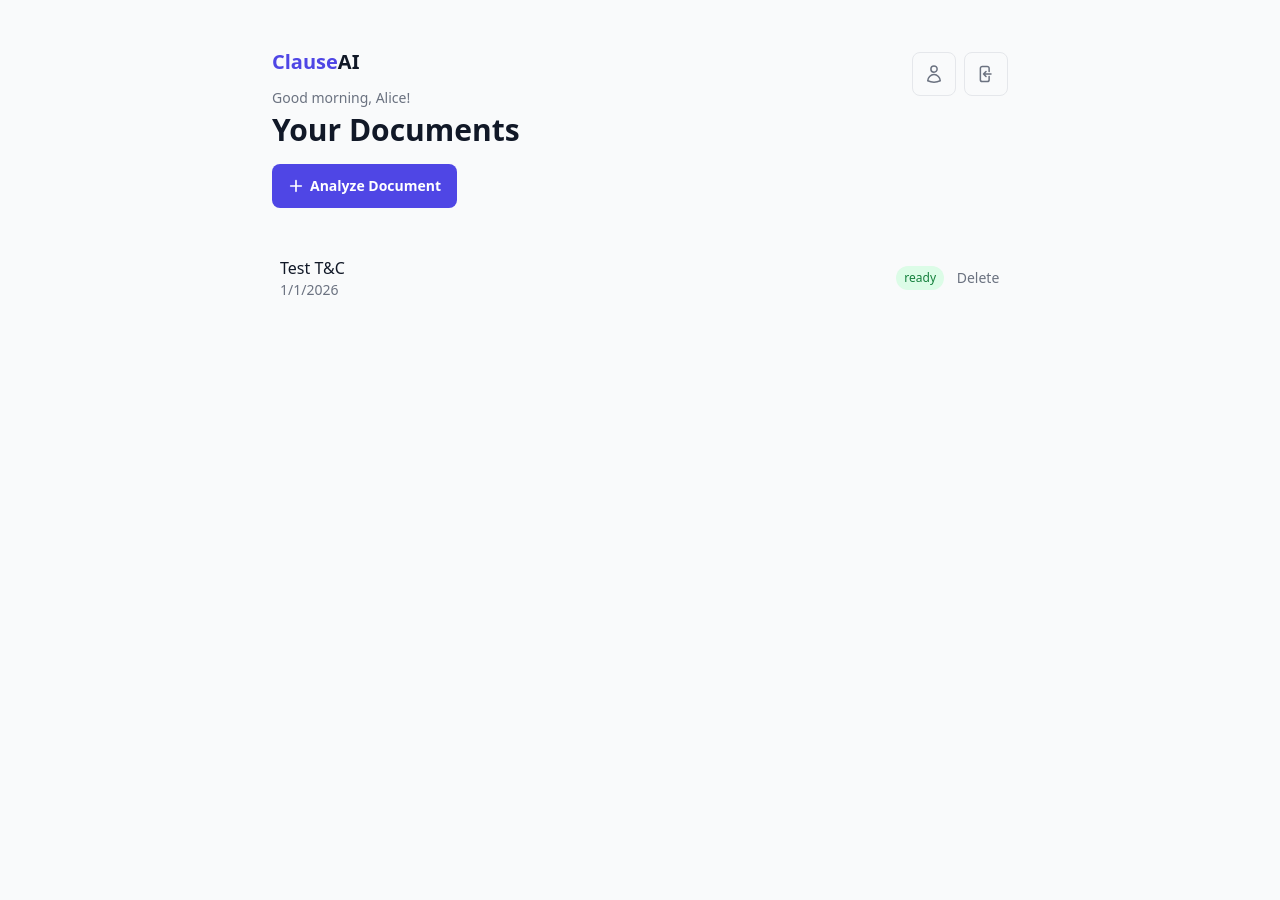
Test: removes document from list after delete confirmation
The image size is (1280, 900).
Check: the text "Test T&C" is shown, box [280, 257, 345, 279]
Note: Click delete on the document row — opens confirmation dialog
Click the button named "delete \"test t&c\"". click: click(978, 278)
box: [956, 256, 1000, 300]
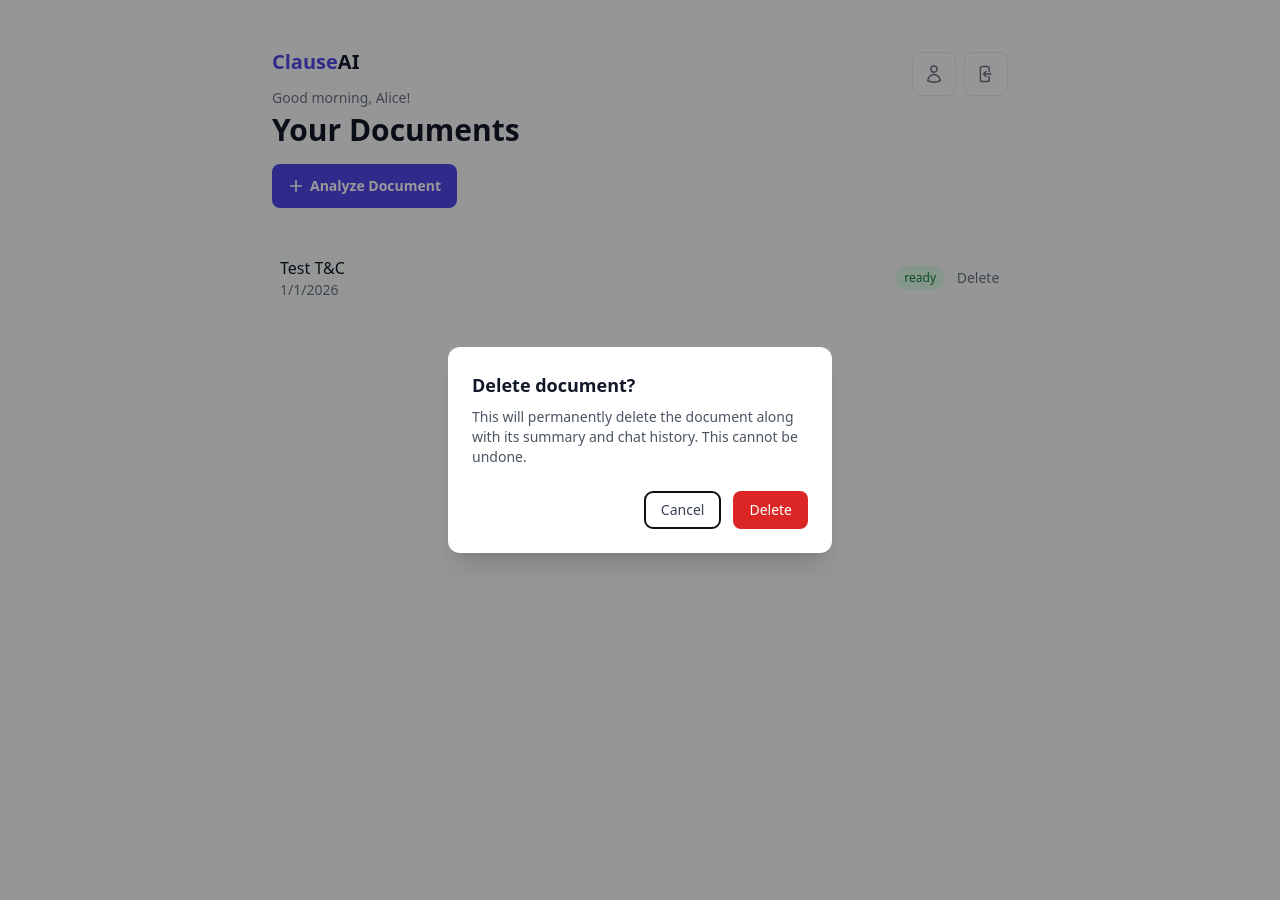
Note: Confirm in the dialog
Click the button "Delete". click: click(771, 510)
box: [733, 491, 808, 529]
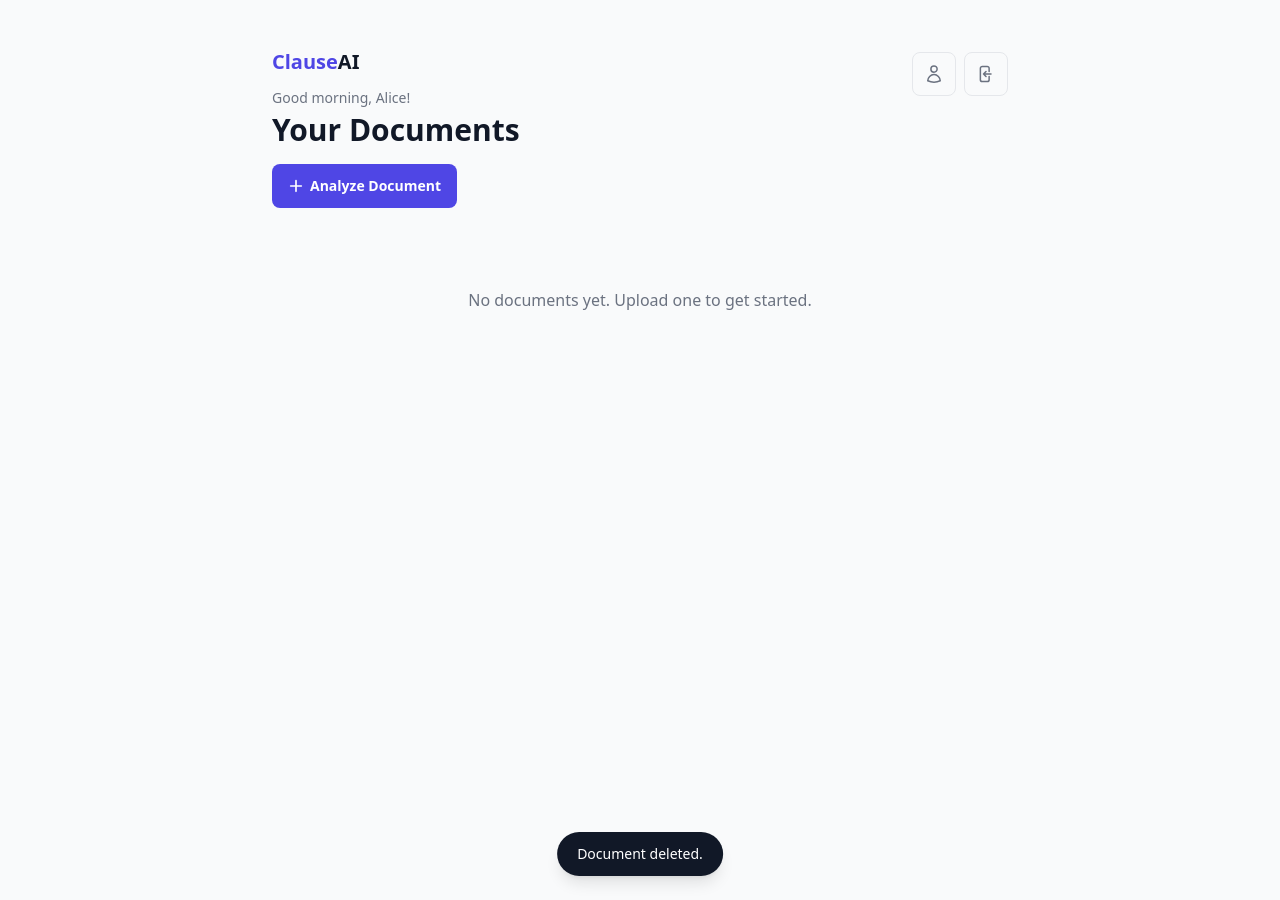
Check: the link "Test T&C" is gone
